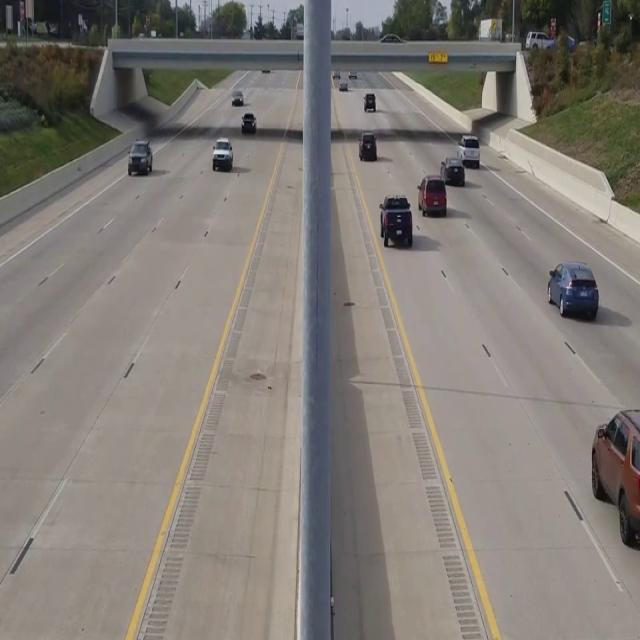car: (590, 406, 640, 547), (546, 262, 598, 320), (379, 194, 412, 247), (417, 174, 447, 216), (127, 140, 152, 175), (440, 155, 465, 186), (457, 134, 480, 167), (212, 137, 233, 172), (359, 132, 377, 161), (241, 111, 256, 133), (364, 92, 375, 111)
